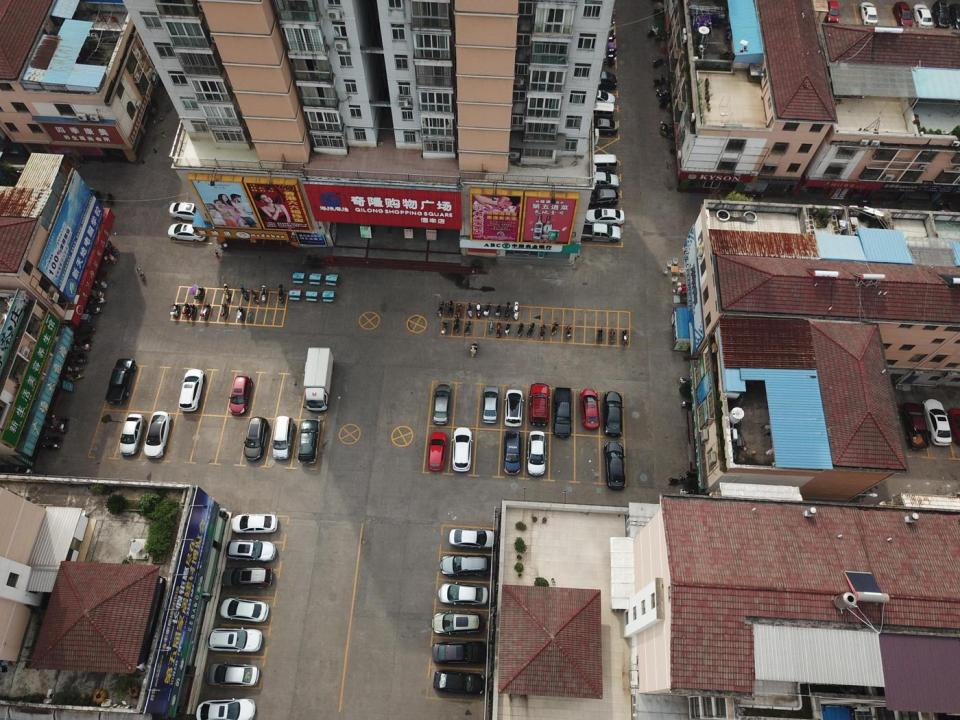car: (922, 399, 952, 446), (144, 411, 172, 459), (207, 628, 263, 652), (195, 698, 256, 720), (207, 662, 259, 687), (432, 610, 483, 635), (432, 671, 484, 694), (178, 369, 206, 411), (220, 598, 269, 622), (441, 552, 490, 576), (433, 641, 486, 663), (119, 413, 146, 456), (243, 416, 269, 460), (226, 540, 277, 562), (437, 583, 488, 605), (298, 418, 321, 464), (604, 442, 626, 490), (232, 513, 279, 535), (222, 568, 272, 588), (450, 528, 495, 550), (229, 375, 252, 417), (579, 389, 601, 430), (604, 390, 623, 437), (452, 427, 472, 471), (503, 429, 521, 475), (528, 431, 546, 477), (530, 383, 549, 426), (584, 208, 625, 226), (169, 202, 210, 220), (168, 223, 206, 242), (504, 389, 523, 427), (428, 431, 446, 471), (579, 172, 620, 189), (581, 189, 618, 207), (482, 385, 499, 423), (434, 384, 450, 424), (583, 118, 618, 136), (584, 70, 617, 89), (585, 90, 615, 106)
truck: (304, 347, 334, 412), (106, 358, 136, 404), (901, 402, 929, 450), (553, 387, 571, 437), (578, 222, 622, 242)
van: (272, 416, 294, 460), (581, 154, 616, 173), (582, 101, 614, 118)
